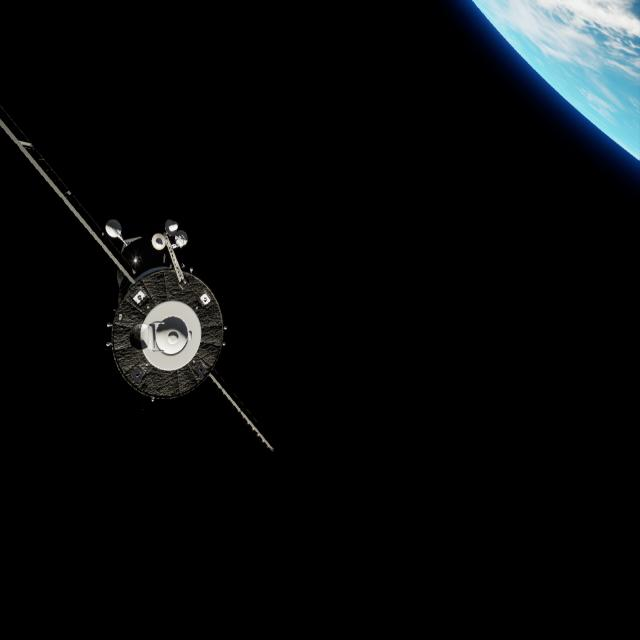Satellites revolving around earth: (106, 264, 226, 402)
